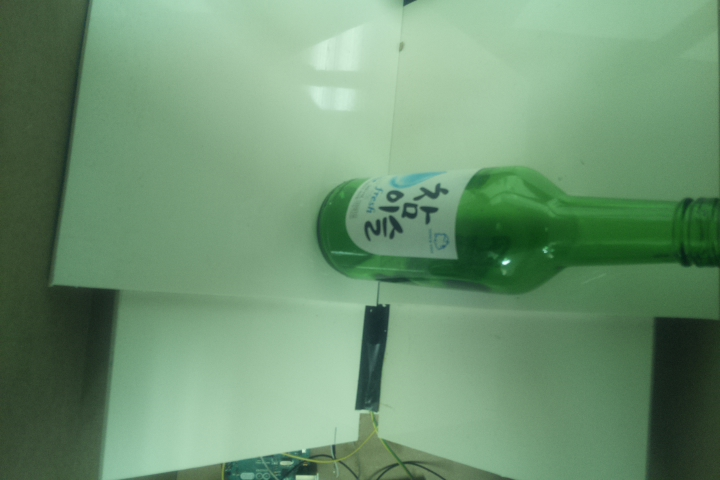soju: (313, 163, 720, 295)
